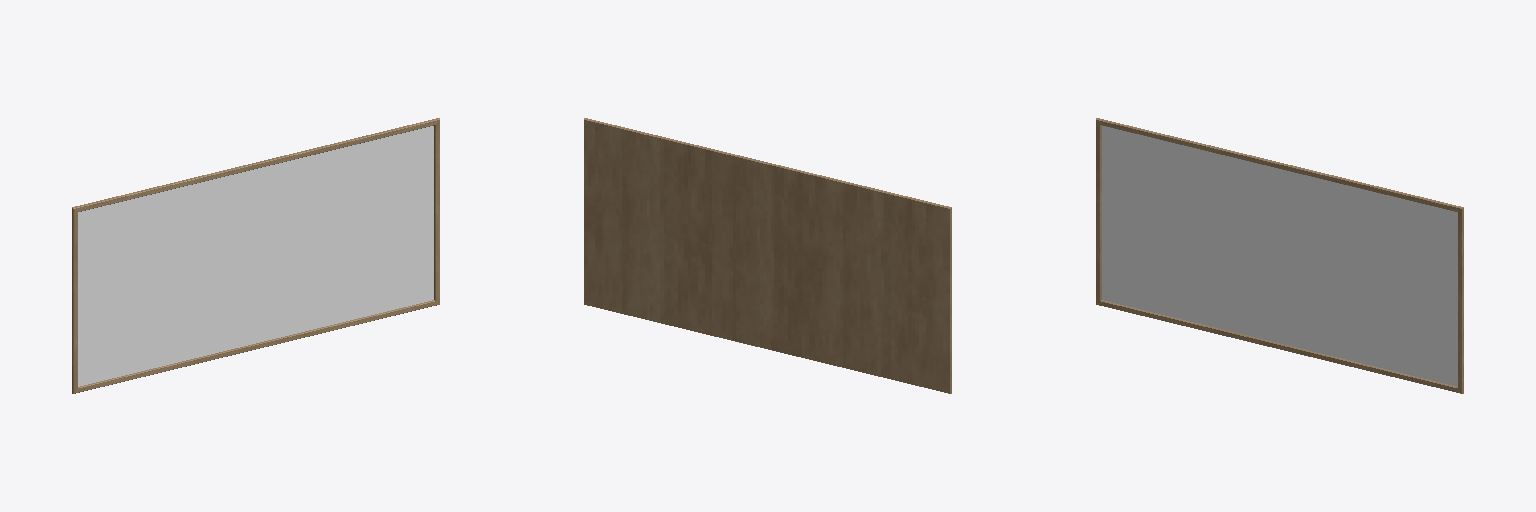
The picture shows the model from 3 angles: view 1: azimuth 30°, elevation 25°; view 2: azimuth 150°, elevation 25°; view 3: azimuth 330°, elevation 25°; orthographic projection.
Visible parts, largest first — view 1: Blackboard_Q; view 2: Blackboard_Q; view 3: Blackboard_Q.
Boxes of the visible parts, <box> form: Blackboard_Q: <box>72,118,439,393</box>; Blackboard_Q: <box>584,118,951,393</box>; Blackboard_Q: <box>1096,118,1463,393</box>.
Bounding box in the file's own units: 1.21 × 0.5823 × 0.0114.
Materials: 1 (1 with a texture image).